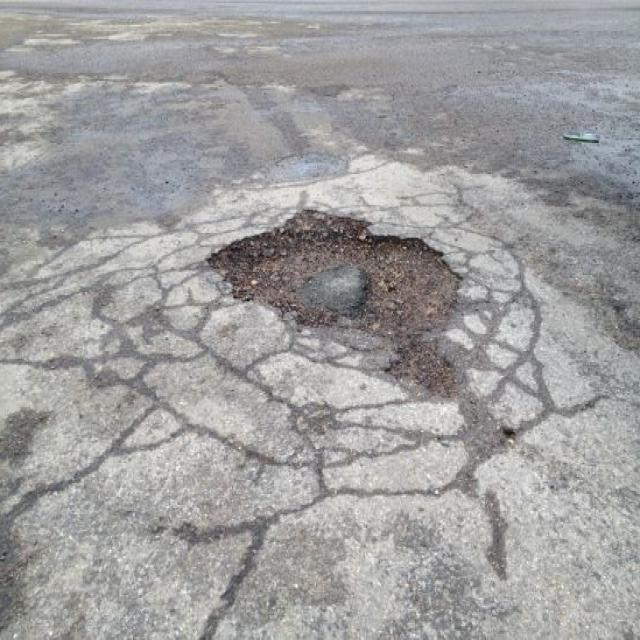Pothole: (204, 201, 469, 392)
